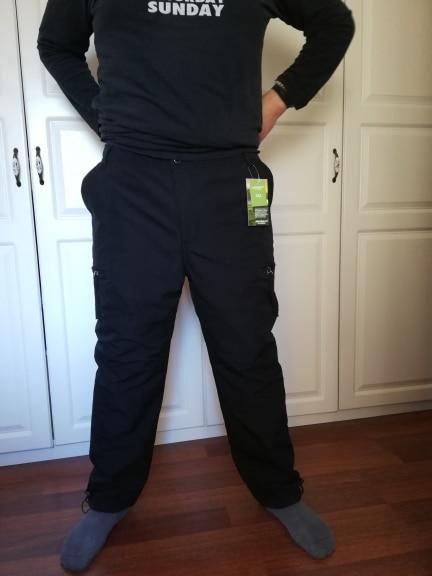pants: (76, 129, 305, 510)
